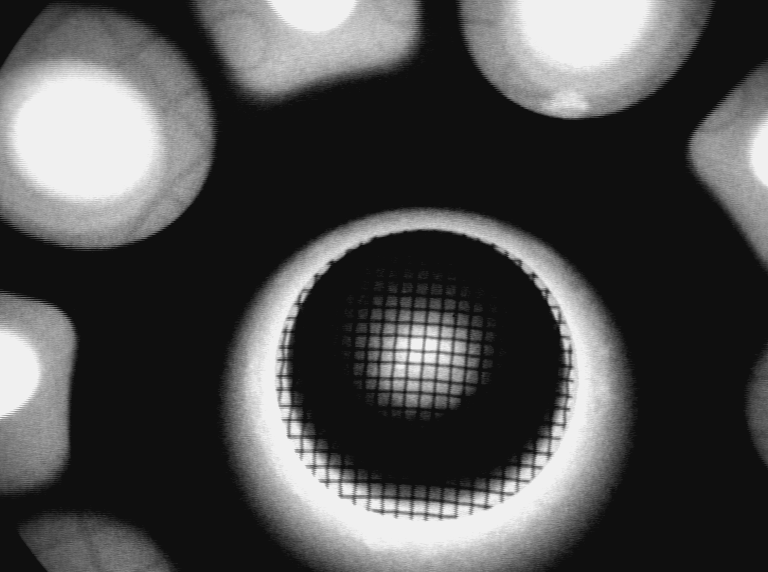defect: (541, 87, 596, 122)
